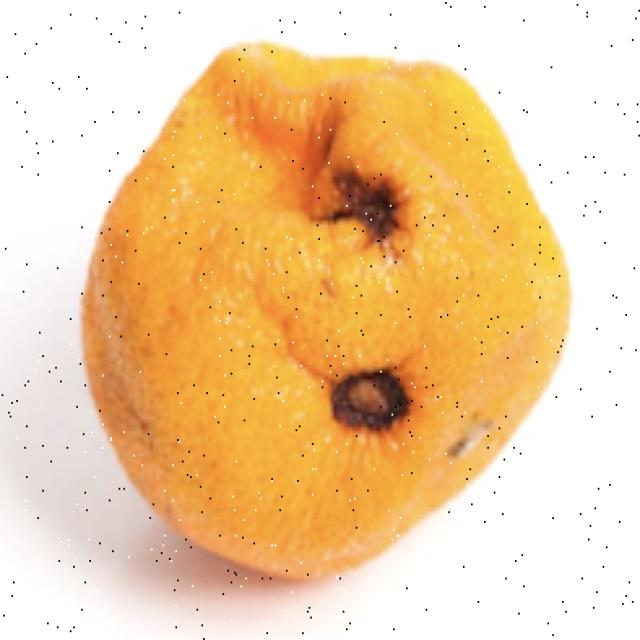Organik: (78, 20, 586, 589)
